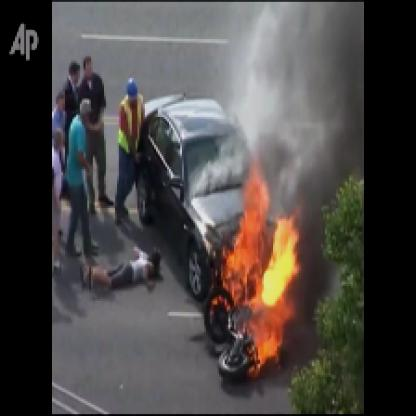Fire: (204, 148, 299, 379)
Smoke: (247, 2, 370, 180)
